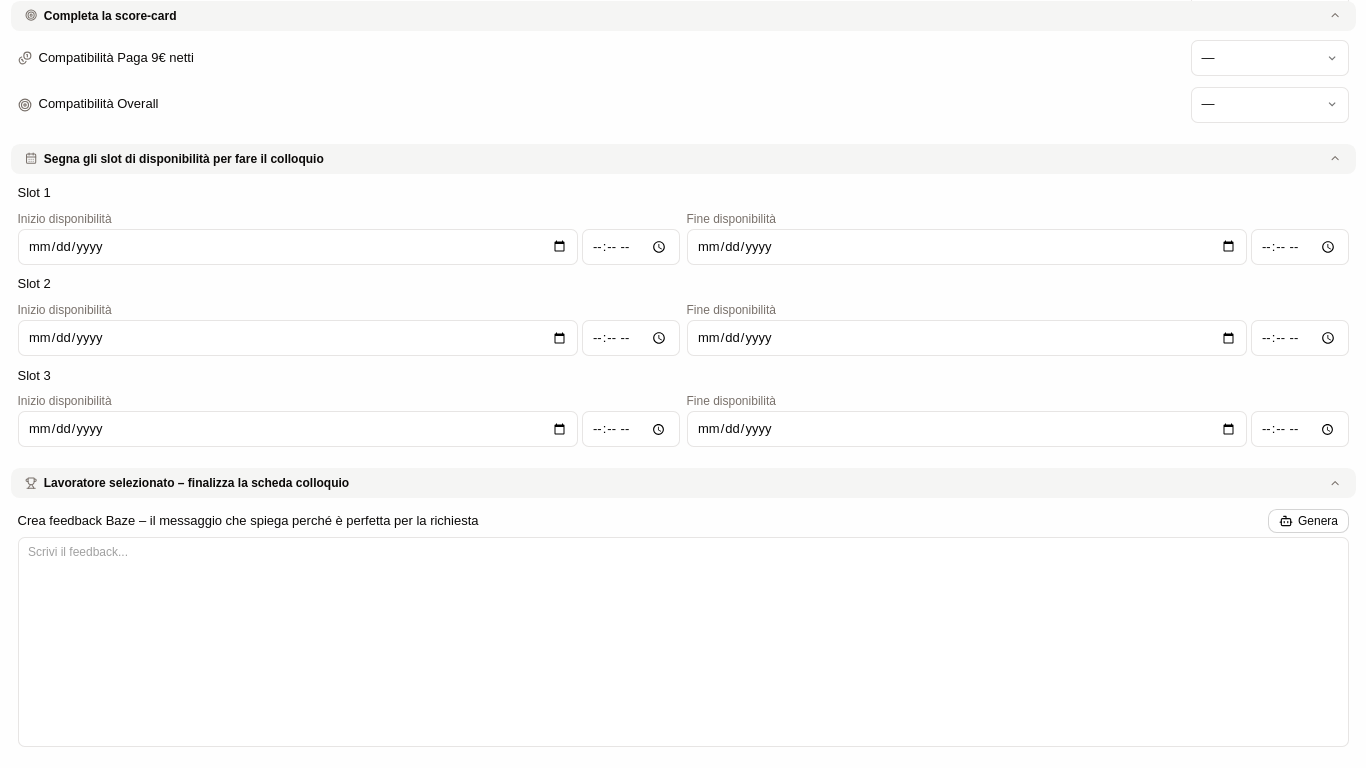
Test: SchedaColloquioPanel — realtime resync does not clobber a focused field (BAZ-187) › still populates the feedback field when 'Genera feedback' returns text
The image size is (1366, 768).
(page scrolled)
Click the button "Genera" at (1308, 521), box left=1268, top=509, right=1348, bottom=533
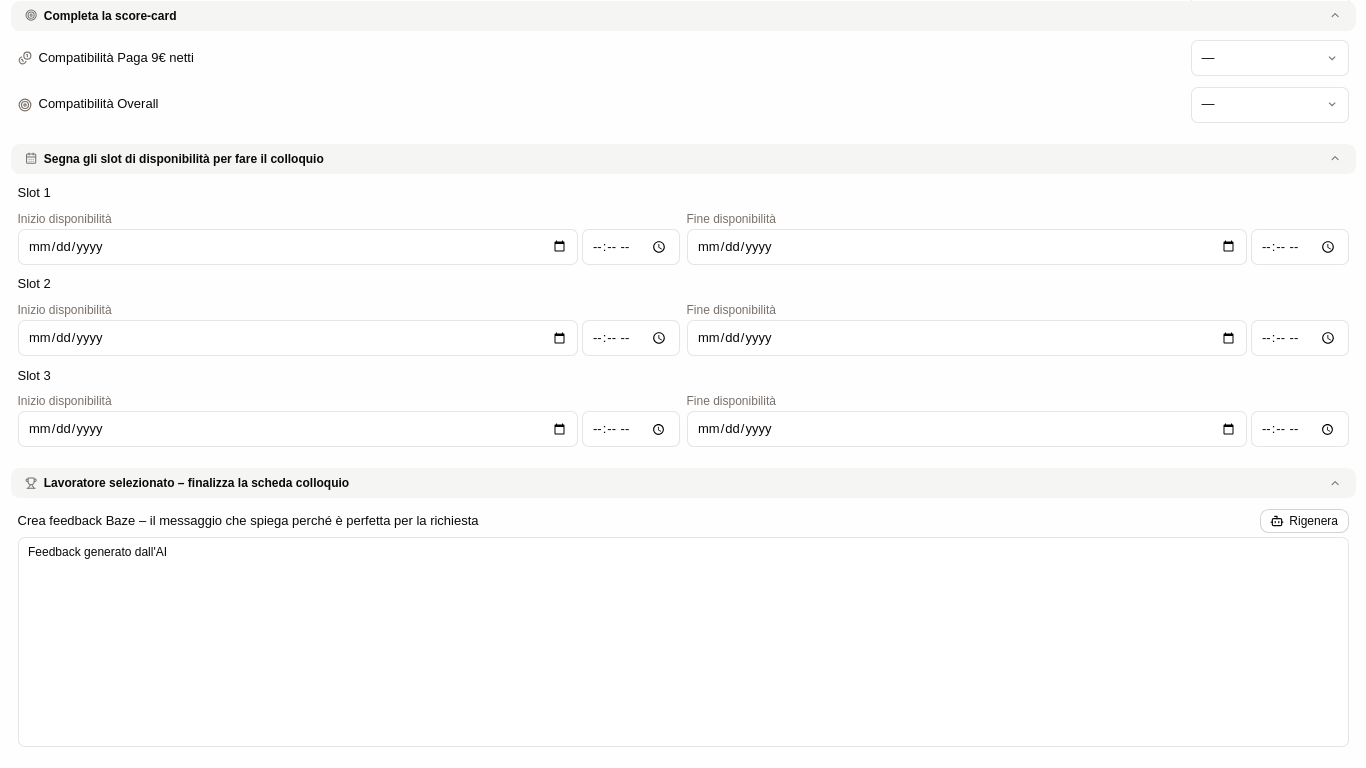
Expected: the text box with placeholder "Scrivi il feedback..." holds "Feedback generato dall'AI", left=18, top=537, right=1348, bottom=747
